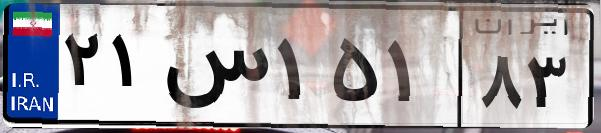1: (270, 28, 330, 110), (385, 28, 445, 110), (110, 28, 158, 98)
2: (57, 26, 110, 100)
3: (525, 38, 570, 115)
5: (330, 28, 385, 110)
8: (475, 38, 525, 113)
س: (158, 20, 270, 120)
